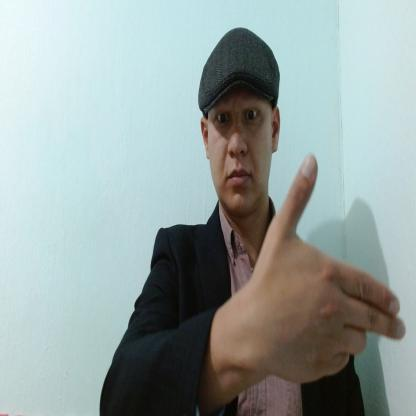H: (254, 153, 405, 384)
